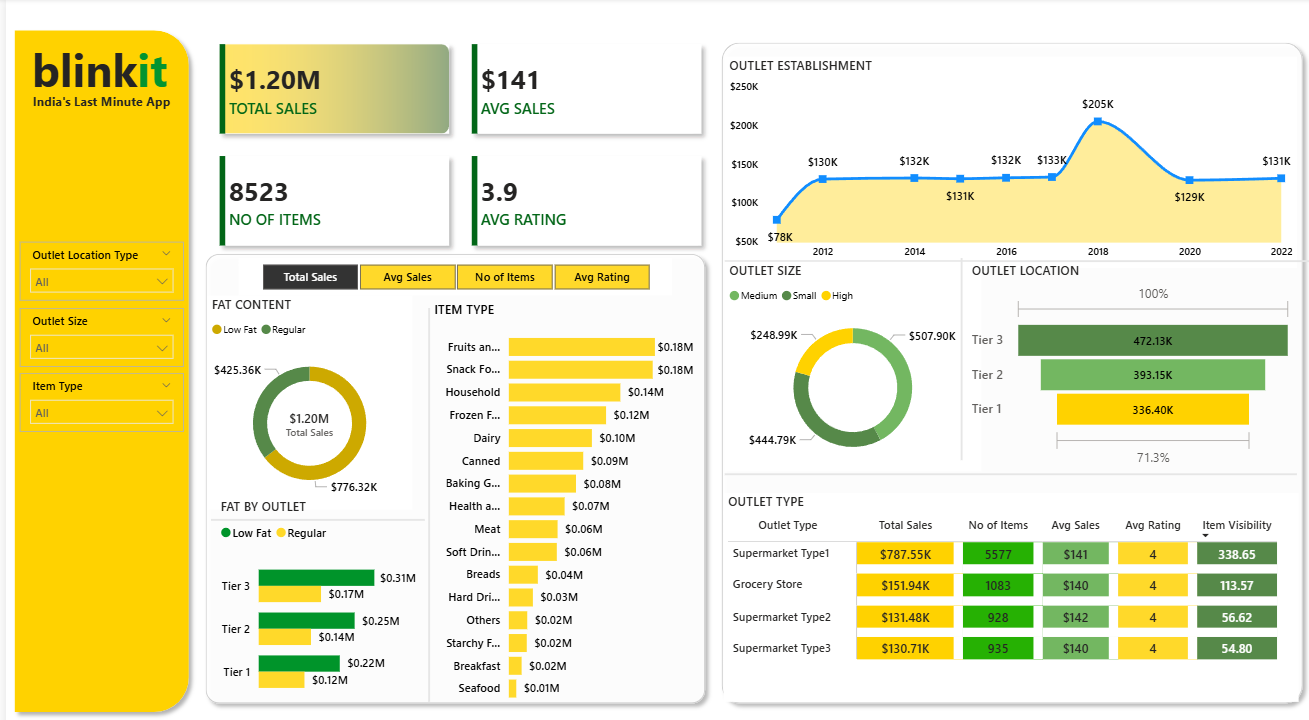

This screenshot's page, from the dashboard's own definition file:
{"tool":"powerbi","page":{"name":"Page 1","canvas":[1400,800],"ordinal":0},"visuals":[{"type":"shape","box":[0,25.5,205.1,749.3],"z":0},{"type":"textbox","box":[13.4,38.9,174.3,85.8],"z":1000},{"type":"textbox","box":[20.1,96.5,164.9,37.5],"z":2000},{"type":"cardVisual","fields":{"Data":["BlinkIT Grocery Data.Total Sales","BlinkIT Grocery Data.Avg Sales","BlinkIT Grocery Data.No of Items","BlinkIT Grocery Data.Avg Rating"]},"box":[205.1,25.5,565.7,264.1],"z":3000},{"type":"shape","box":[205.1,265.4,553.6,500],"z":4000},{"type":"donutChart","title":"FAT CONTENT","fields":{"Y":["BlinkIT Grocery Data.Total Sales"],"Category":["BlinkIT Grocery Data.Item Fat Content"]},"box":[215.8,319,219.8,229.2],"z":5000},{"type":"slicer","fields":{"Values":["Metrics.Metrics"]},"box":[249.3,278.8,465.1,40.2],"z":6000},{"type":"cardVisual","fields":{"Data":["BlinkIT Grocery Data.Total Sales"]},"box":[278.8,416.9,93.8,79.1],"z":7000},{"type":"clusteredBarChart","title":"FAT BY OUTLET","fields":{"Y":["BlinkIT Grocery Data.Total Sales"],"Category":["BlinkIT Grocery Data.Outlet Location Type"],"Series":["BlinkIT Grocery Data.Item Fat Content"]},"box":[225.2,536.2,219.8,229.2],"z":8000},{"type":"shape","box":[219.8,548.3,229.2,22.8],"z":9000},{"type":"shape","box":[445,332.4,17.4,422.3],"z":10000},{"type":"barChart","title":"ITEM TYPE","fields":{"Y":["BlinkIT Grocery Data.Total Sales"],"Category":["BlinkIT Grocery Data.Item Type"]},"box":[454.4,324.4,288.2,441],"z":11000},{"type":"shape","box":[758.7,38.9,640.8,726.5],"z":12000},{"type":"lineChart","title":"OUTLET ESTABLISHMENT","fields":{"Category":["BlinkIT Grocery Data.Outlet Establishment Year"],"Y":["BlinkIT Grocery Data.Total Sales"]},"box":[770.8,63,613.9,226.5],"z":13000},{"type":"shape","box":[770.8,265.4,628.7,33.5],"z":14000},{"type":"donutChart","title":"OUTLET SIZE","fields":{"Y":["BlinkIT Grocery Data.Total Sales"],"Category":["BlinkIT Grocery Data.Outlet Size"]},"box":[770.8,282.8,275,225],"z":15000},{"type":"shape","box":[1018.8,278.8,12.1,217.2],"z":16000},{"type":"funnel","title":"OUTLET LOCATION","fields":{"Category":["BlinkIT Grocery Data.Outlet Location Type"],"Y":["Sum(BlinkIT Grocery Data.Sales)"]},"box":[1030.8,282.8,353.9,225.2],"z":17000},{"type":"pivotTable","title":"OUTLET TYPE","fields":{"Rows":["BlinkIT Grocery Data.Outlet Type"],"Values":["BlinkIT Grocery Data.Total Sales","BlinkIT Grocery Data.No of Items","BlinkIT Grocery Data.Avg Sales","BlinkIT Grocery Data.Avg Rating","Sum(BlinkIT Grocery Data.Item Visibility)"]},"box":[769.4,530.8,616.6,223.9],"z":17001},{"type":"shape","box":[770.8,505.4,613.9,10.7],"z":17002},{"type":"slicer","fields":{"Values":["BlinkIT Grocery Data.Outlet Location Type"]},"box":[14.7,261.4,175.6,63],"z":17003},{"type":"slicer","fields":{"Values":["BlinkIT Grocery Data.Outlet Size"]},"box":[14.7,332.4,175.6,63],"z":17004},{"type":"slicer","fields":{"Values":["BlinkIT Grocery Data.Item Type"]},"box":[14.7,402.1,175.6,63],"z":17005}]}

Visuals, with their boxes on the page's 1400x800 design canvas (x1, y1, x2, y2). These are canvas units, not pixel positions in the 1309x720 screenshot, which may show the page scaled, cropped or inside an application window:
shape: region(0, 26, 205, 775)
textbox: region(13, 39, 188, 125)
textbox: region(20, 96, 185, 134)
cardVisual - BlinkIT Grocery Data.Total Sales x BlinkIT Grocery Data.Avg Sales: region(205, 26, 771, 290)
shape: region(205, 265, 759, 765)
"FAT CONTENT" donutChart: region(216, 319, 436, 548)
slicer - Metrics.Metrics: region(249, 279, 714, 319)
cardVisual - BlinkIT Grocery Data.Total Sales: region(279, 417, 373, 496)
"FAT BY OUTLET" clusteredBarChart: region(225, 536, 445, 765)
shape: region(220, 548, 449, 571)
shape: region(445, 332, 462, 755)
"ITEM TYPE" barChart: region(454, 324, 743, 765)
shape: region(759, 39, 1400, 765)
"OUTLET ESTABLISHMENT" lineChart: region(771, 63, 1385, 290)
shape: region(771, 265, 1400, 299)
"OUTLET SIZE" donutChart: region(771, 283, 1046, 508)
shape: region(1019, 279, 1031, 496)
"OUTLET LOCATION" funnel: region(1031, 283, 1385, 508)
"OUTLET TYPE" pivotTable: region(769, 531, 1386, 755)
shape: region(771, 505, 1385, 516)
slicer - BlinkIT Grocery Data.Outlet Location Type: region(15, 261, 190, 324)
slicer - BlinkIT Grocery Data.Outlet Size: region(15, 332, 190, 395)
slicer - BlinkIT Grocery Data.Item Type: region(15, 402, 190, 465)
